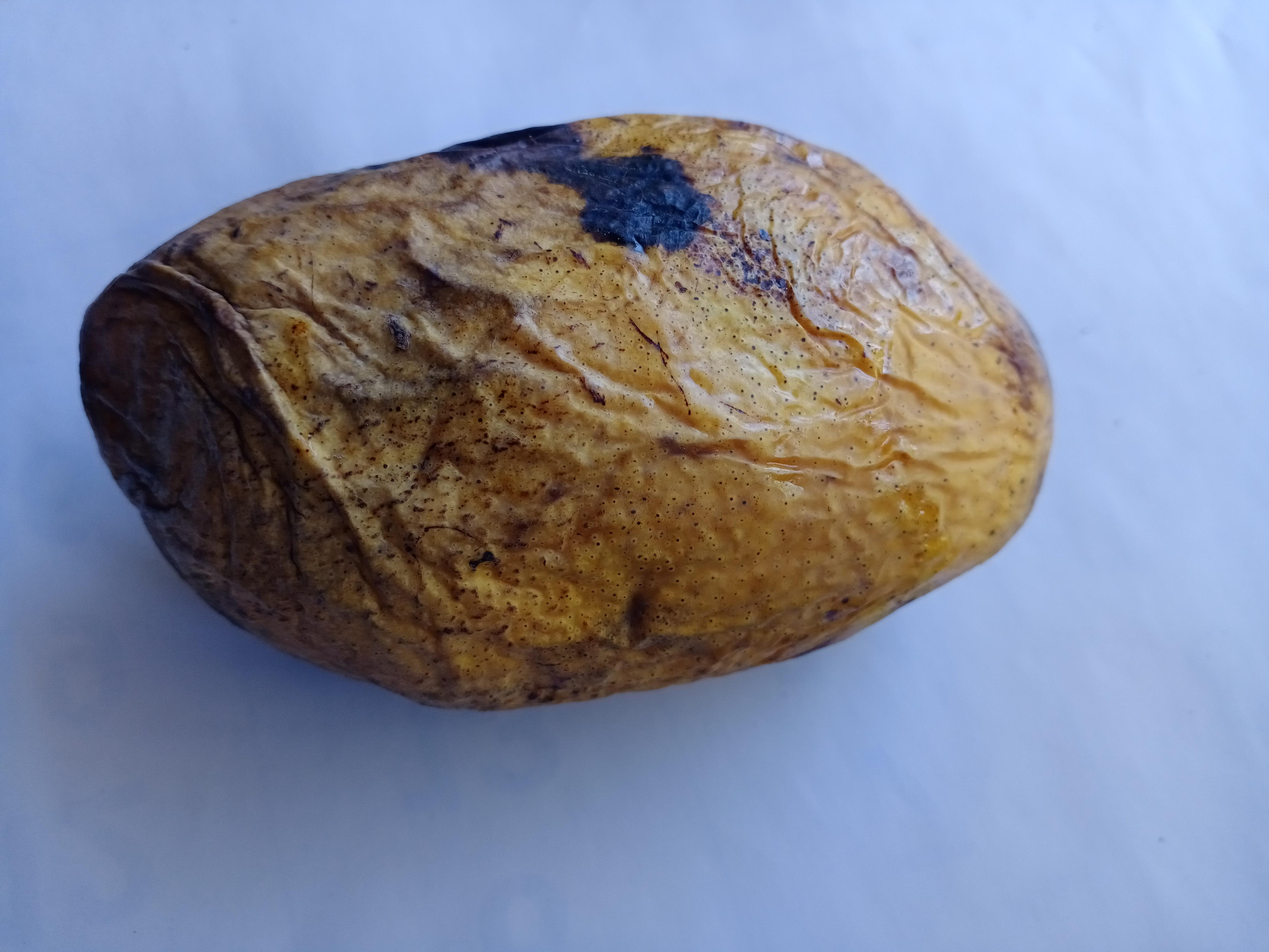Mango Overripe: (50, 82, 1066, 727)
